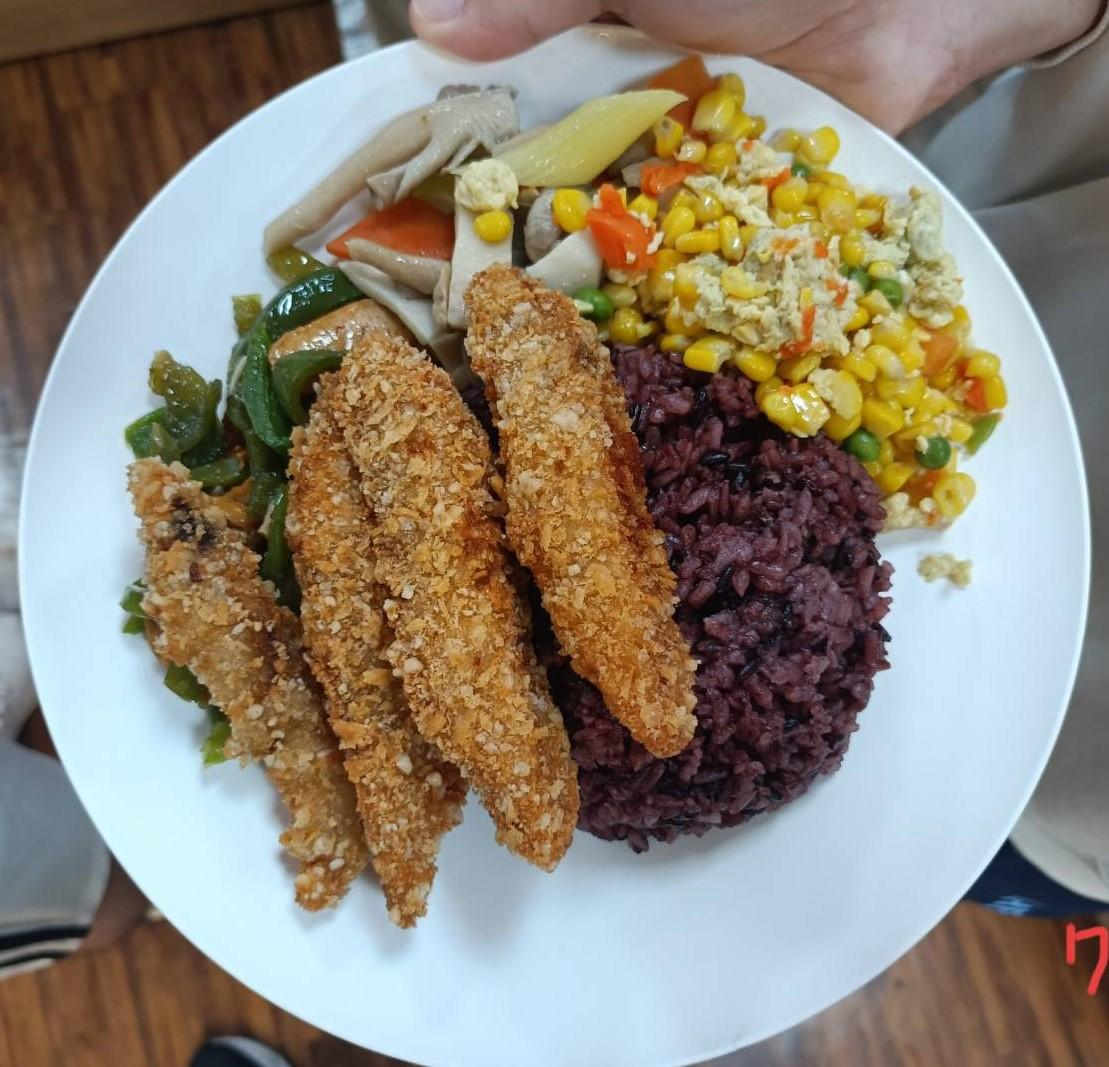big fried chicken leg: (25, 25, 1078, 1067)
braised fish: (424, 354, 898, 826)
braised fish fillet: (594, 96, 990, 463), (254, 61, 686, 324), (128, 278, 340, 526)
braised pork: (152, 281, 640, 894)
